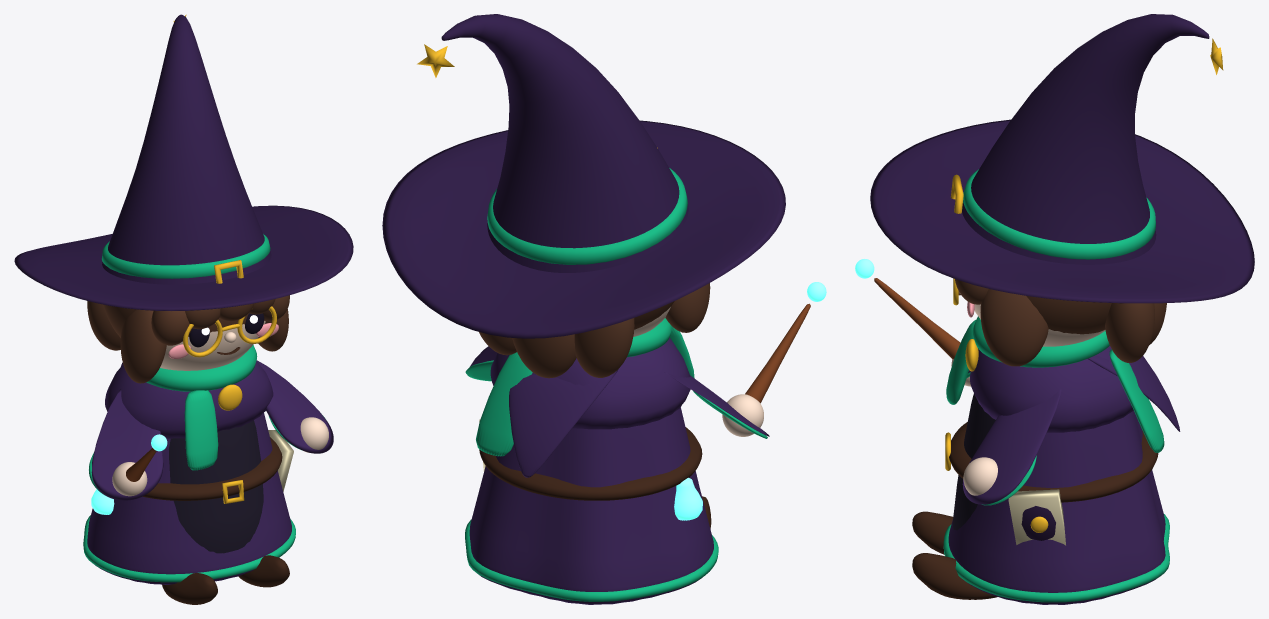
File: wizard_pilgrim.glb
3 views of the same model, side by side, from view 1: azimuth 30°, elevation 25°; view 2: azimuth 150°, elevation 25°; view 3: azimuth 270°, elevation 25° (orthographic). The views are drawn at different scales.
Visible parts, largest first — view 1: Wizard_Hat_Cone, Wizard_Hat_Brim, Wizard_Cloak_Outer, Wizard_Tunic_Inner, Wizard_Shoulder_Cape, Wizard_Sleeve_L, Wizard_Sleeve_R, Wizard_Hair_Lock_0, Wizard_Scarf_FrontTail, Wizard_Belt, Wizard_Hat_Band, Wizard_Scarf_Neck (+14 smaller); view 2: Wizard_Hat_Brim, Wizard_Hat_Cone, Wizard_Cloak_Outer, Wizard_Shoulder_Cape, Wizard_Back_Hood, Wizard_Belt, Wizard_Hat_Band, Wizard_Cloak_HemTrim, Wizard_Scarf_BackTail, Wizard_Hair_Lock_7, Wizard_Hair_Lock_8, Wizard_Hair_Lock_0 (+5 smaller); view 3: Wizard_Hat_Brim, Wizard_Hat_Cone, Wizard_Cloak_Outer, Wizard_Shoulder_Cape, Wizard_Sleeve_R, Wizard_Hair_Lock_1, Wizard_Hat_Band, Wizard_Belt, Wizard_Cloak_HemTrim, Wizard_Hair_Lock_9, Wizard_Hair_Cap, Wizard_Boot_R (+11 smaller).
Part boxes in pixels (x1=…): Wizard_Hat_Cone: x1=102, y1=14, x2=271, y2=284; Wizard_Hat_Brim: x1=14, y1=205, x2=353, y2=310; Wizard_Cloak_Outer: x1=87, y1=413, x2=291, y2=584; Wizard_Tunic_Inner: x1=169, y1=420, x2=263, y2=553; Wizard_Shoulder_Cape: x1=105, y1=361, x2=273, y2=438; Wizard_Sleeve_L: x1=91, y1=388, x2=163, y2=500; Wizard_Sleeve_R: x1=256, y1=360, x2=333, y2=453; Wizard_Hair_Lock_0: x1=120, y1=309, x2=166, y2=383; Wizard_Scarf_FrontTail: x1=184, y1=390, x2=218, y2=470; Wizard_Belt: x1=143, y1=437, x2=282, y2=500; Wizard_Hat_Band: x1=102, y1=234, x2=270, y2=278; Wizard_Scarf_Neck: x1=146, y1=345, x2=257, y2=391; Wizard_Hat_Brim: x1=382, y1=120, x2=785, y2=338; Wizard_Hat_Cone: x1=441, y1=14, x2=688, y2=272; Wizard_Cloak_Outer: x1=469, y1=407, x2=713, y2=604; Wizard_Shoulder_Cape: x1=490, y1=337, x2=690, y2=429; Wizard_Back_Hood: x1=509, y1=369, x2=618, y2=477; Wizard_Belt: x1=479, y1=427, x2=702, y2=500; Wizard_Hat_Band: x1=487, y1=168, x2=687, y2=264; Wizard_Cloak_HemTrim: x1=465, y1=519, x2=718, y2=601; Wizard_Scarf_BackTail: x1=476, y1=352, x2=532, y2=456; Wizard_Hair_Lock_7: x1=574, y1=318, x2=634, y2=377; Wizard_Hair_Lock_8: x1=512, y1=334, x2=576, y2=378; Wizard_Hair_Lock_0: x1=665, y1=283, x2=710, y2=332; Wizard_Hat_Brim: x1=870, y1=119, x2=1254, y2=303; Wizard_Hat_Cone: x1=962, y1=14, x2=1209, y2=264; Wizard_Cloak_Outer: x1=948, y1=411, x2=1165, y2=604; Wizard_Shoulder_Cape: x1=970, y1=346, x2=1133, y2=432; Wizard_Sleeve_R: x1=962, y1=389, x2=1061, y2=504; Wizard_Hair_Lock_1: x1=980, y1=289, x2=1048, y2=366; Wizard_Hat_Band: x1=963, y1=169, x2=1155, y2=259; Wizard_Belt: x1=949, y1=422, x2=1158, y2=502; Wizard_Cloak_HemTrim: x1=943, y1=514, x2=1169, y2=602; Wizard_Hair_Lock_9: x1=1105, y1=303, x2=1154, y2=362; Wizard_Hair_Cap: x1=1026, y1=296, x2=1111, y2=334; Wizard_Boot_R: x1=912, y1=553, x2=997, y2=599.
Bounding box in the file's own units: 0.6752 × 1.07 × 0.6703.
